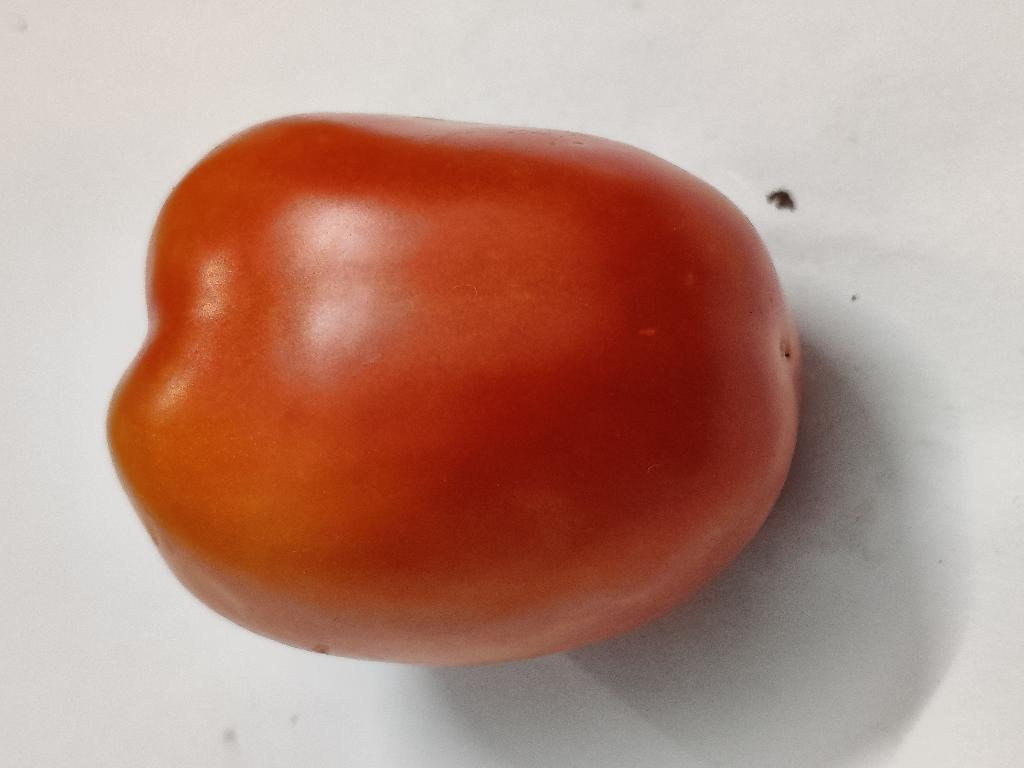tomato: (109, 115, 800, 664)
